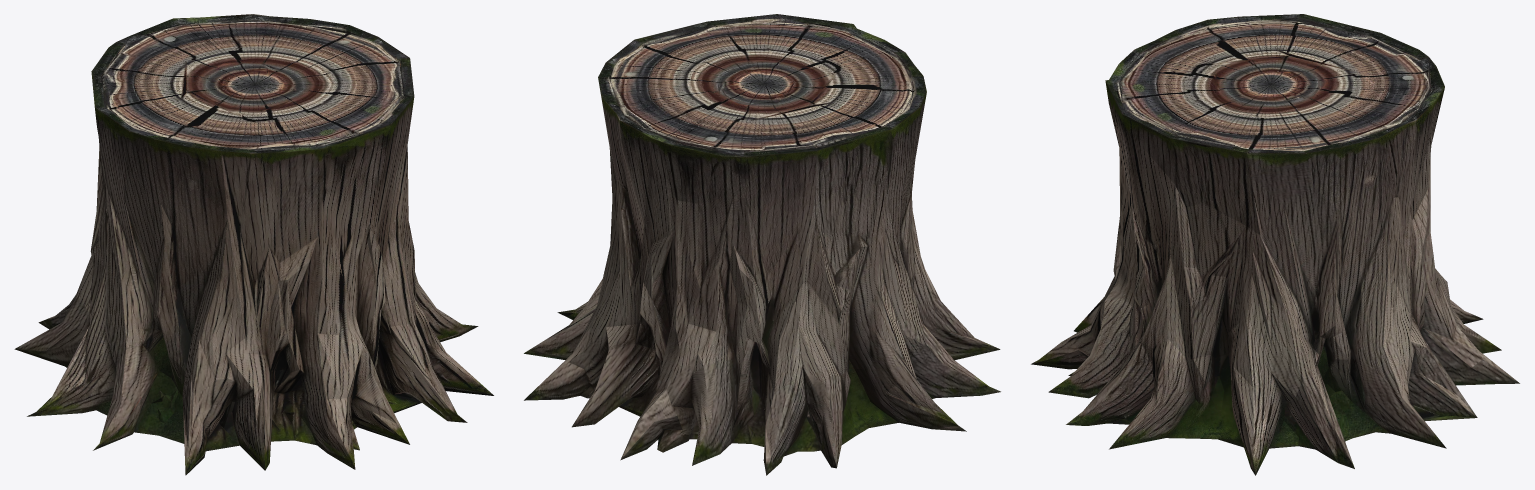
The model's file is stump.glb.
The picture shows the model from 3 angles, left to right: view 1: azimuth 30°, elevation 25°; view 2: azimuth 150°, elevation 25°; view 3: azimuth 270°, elevation 25°; orthographic projection.
Bounding box in the file's own units: 1.89 × 1.23 × 1.87.
Materials: 1 (1 with a texture image).
